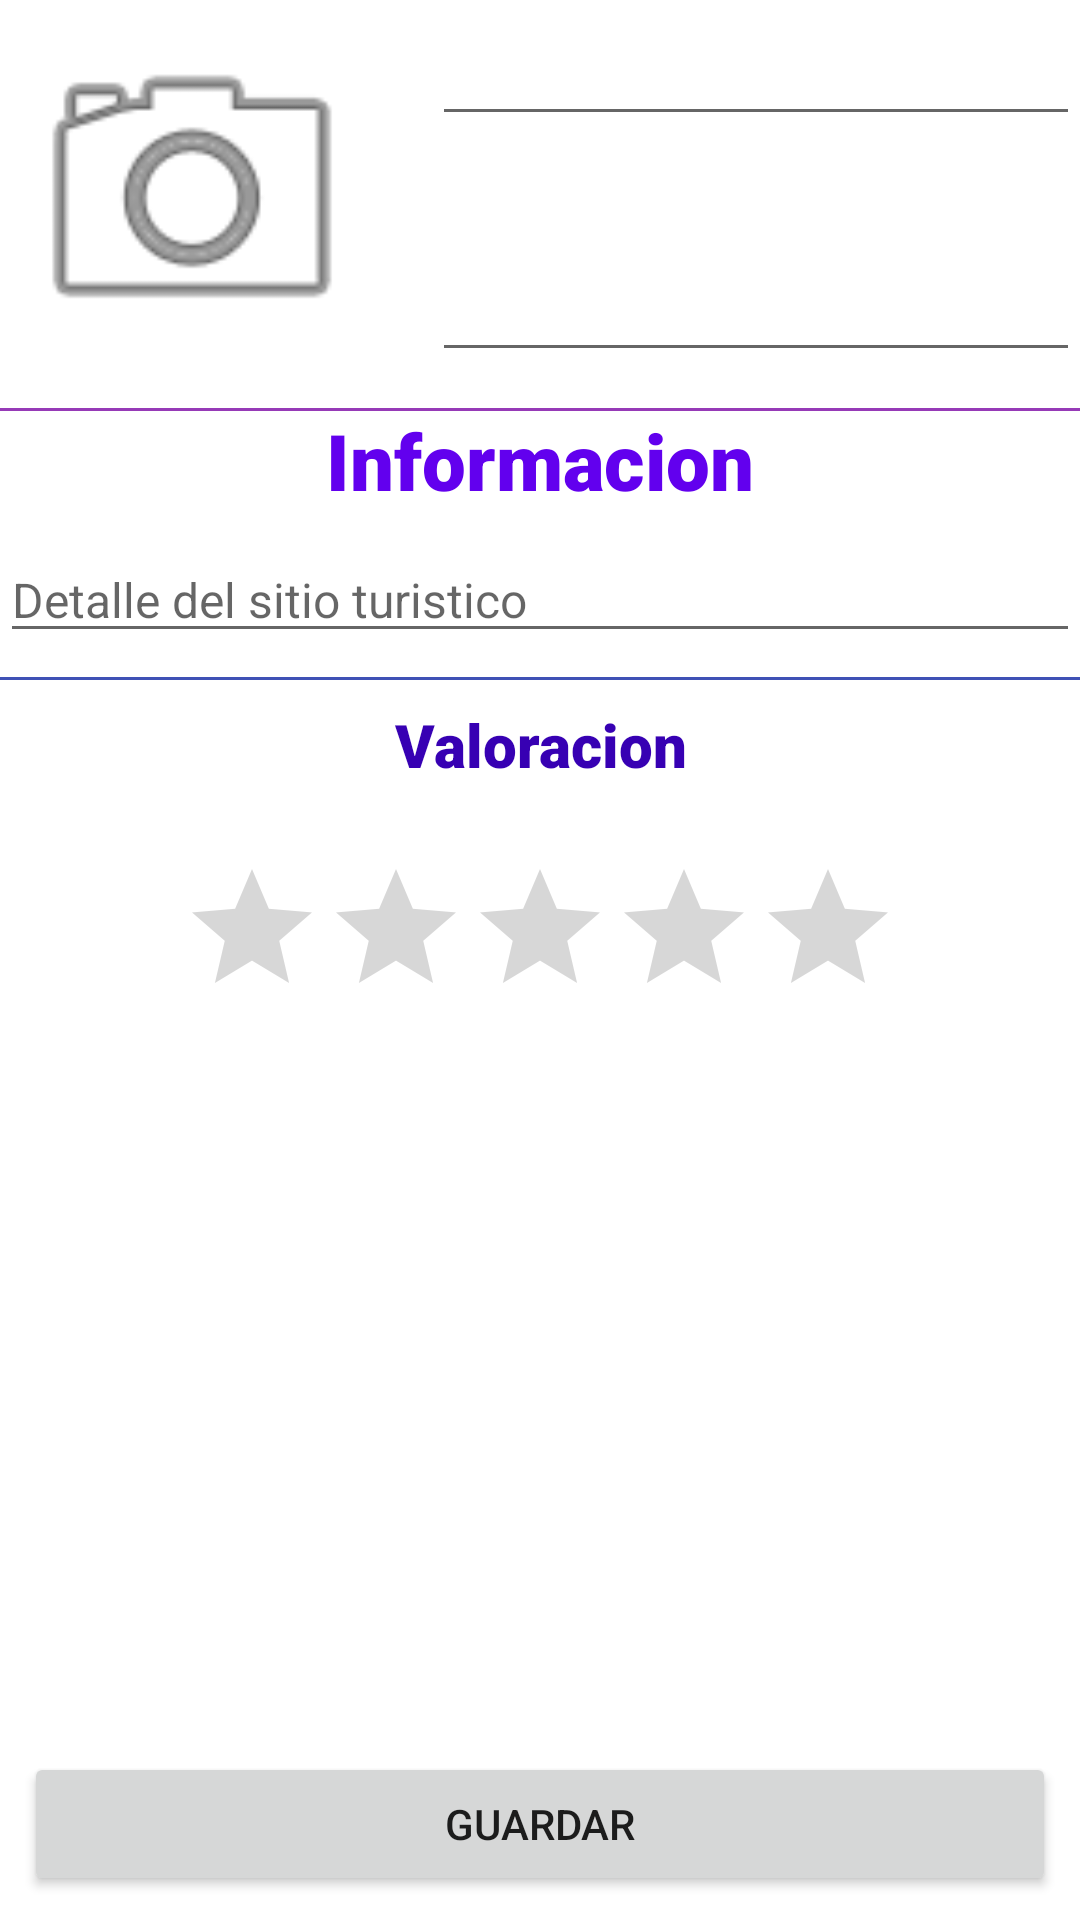

Icon click points for this 1080*1920 phone screenshot, format [x,y]:
camera: [192,186]
